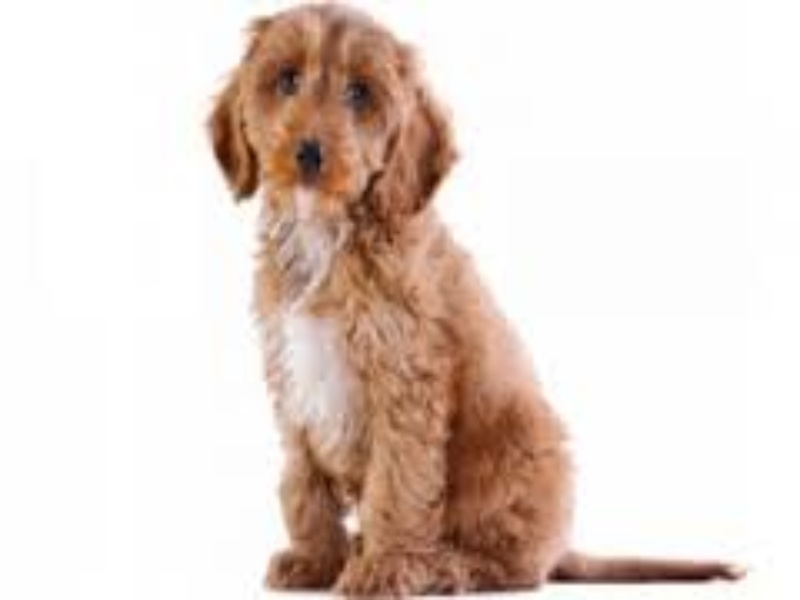dog: (138, 3, 773, 584)
